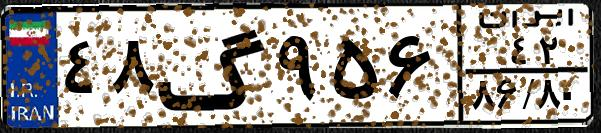0: (560, 70, 590, 125)
2: (537, 27, 568, 80)
4: (57, 26, 110, 100), (508, 27, 537, 80)
5: (330, 28, 385, 110)
6: (385, 28, 445, 110), (495, 70, 520, 125)
8: (110, 28, 156, 98), (470, 70, 495, 125), (535, 70, 560, 125)
9: (270, 28, 330, 110)
گ: (156, 12, 270, 120)
